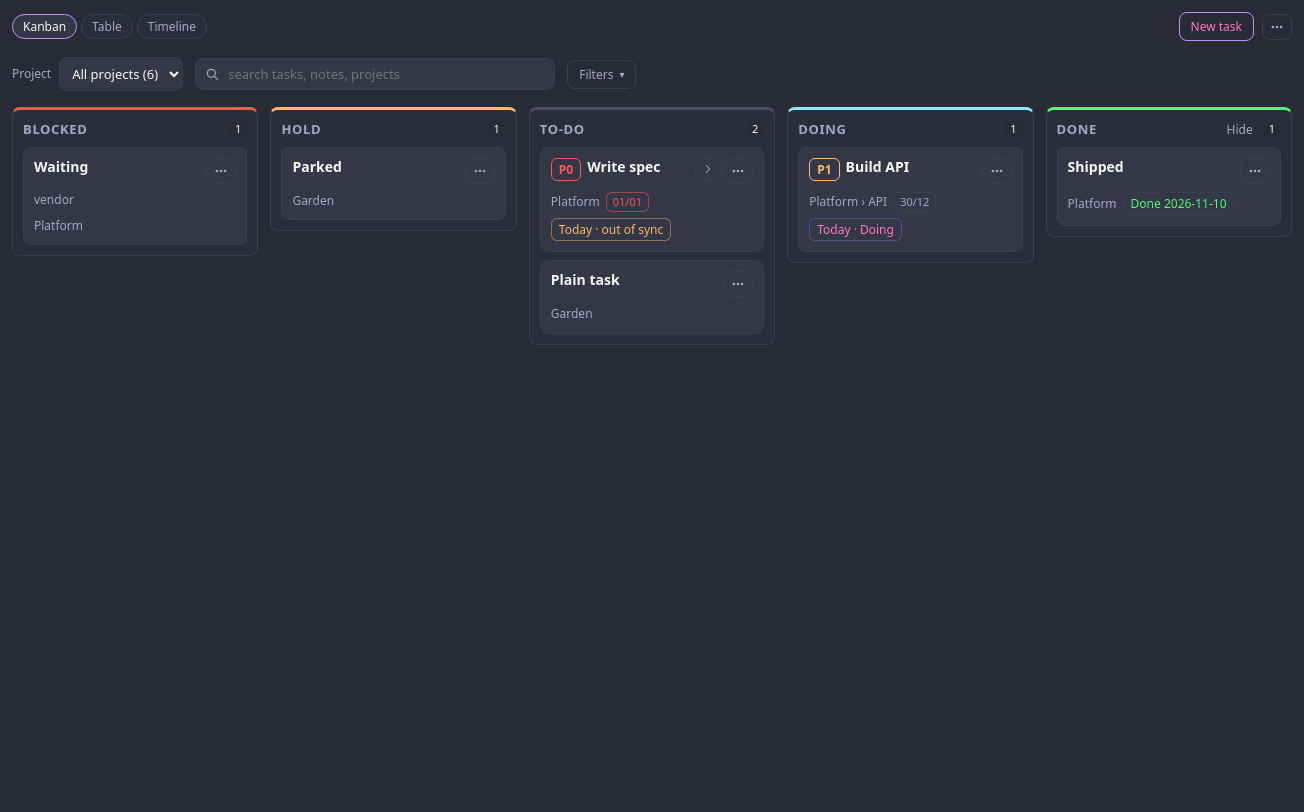
BoardView kanban › expands a card to show notes and subtasks, then collapses it
Expected: the text "Write spec" is shown, [587,158,660,176]
Expected: the text "spec note" is not shown
Click the button named "Show details of Write spec" at (708, 169), box [695,158,721,180]
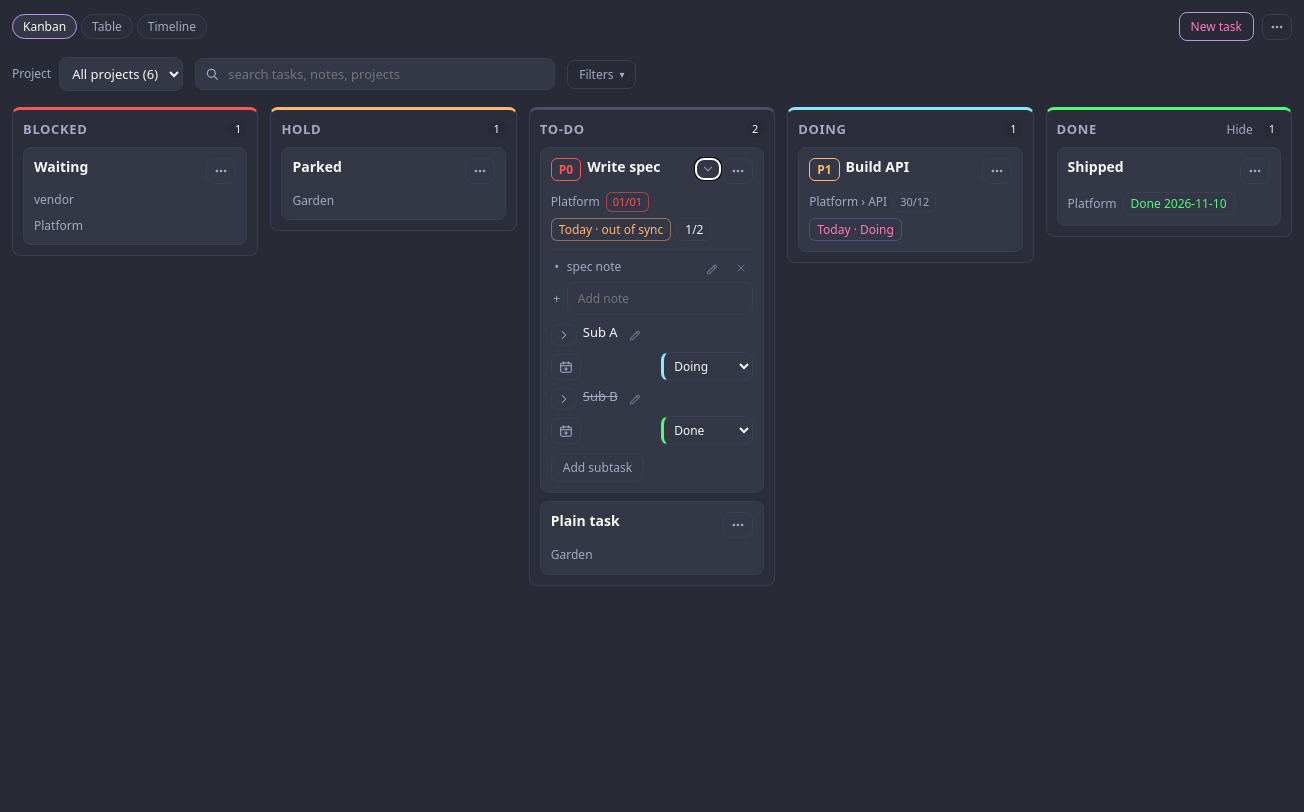
Expected: the text "spec note" is shown, [567,258,621,275]
Expected: the text "Sub A" is shown, [583,323,618,341]
Expected: the button "Add subtask" is shown, [551,453,644,482]
Click the button named "Hide details of Write spec" at (708, 169), box [695,158,721,180]
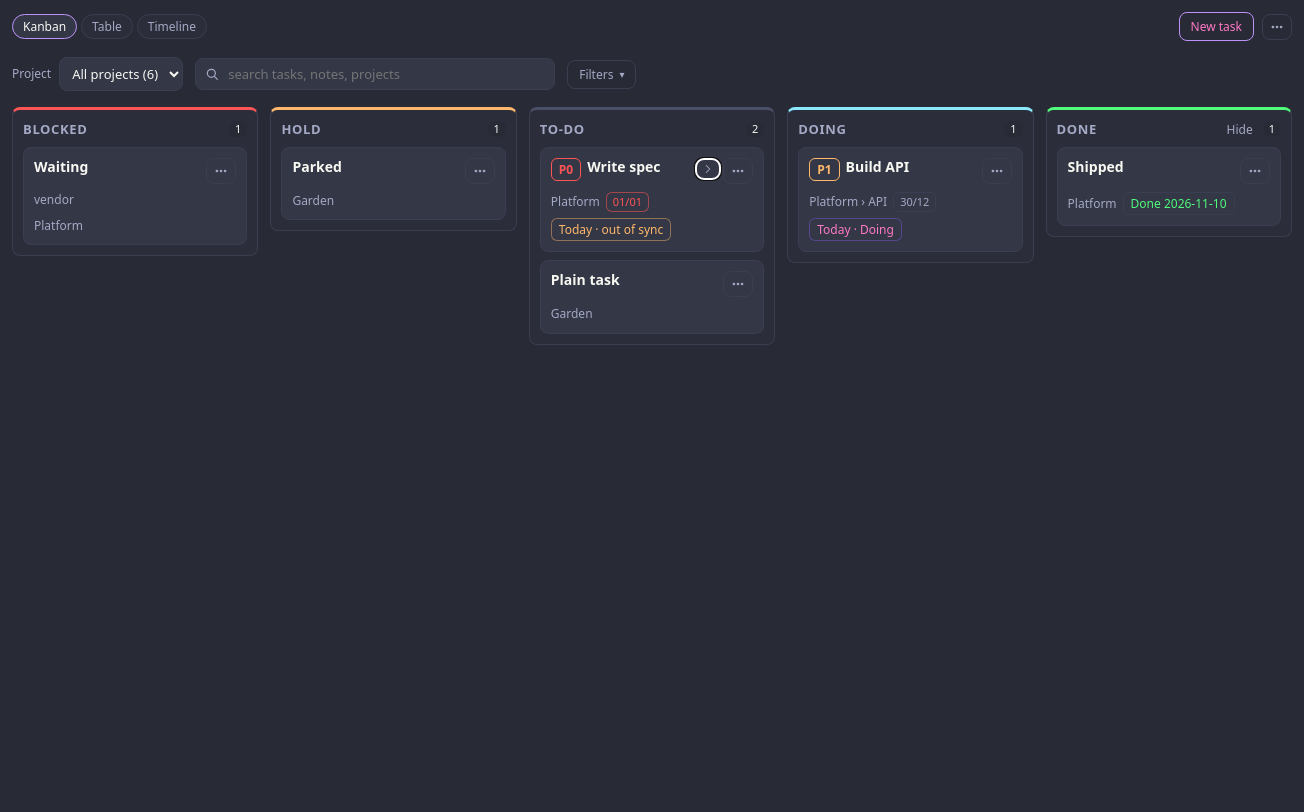
Expected: the text "spec note" is gone
